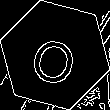O_N: (28, 25, 82, 85)
